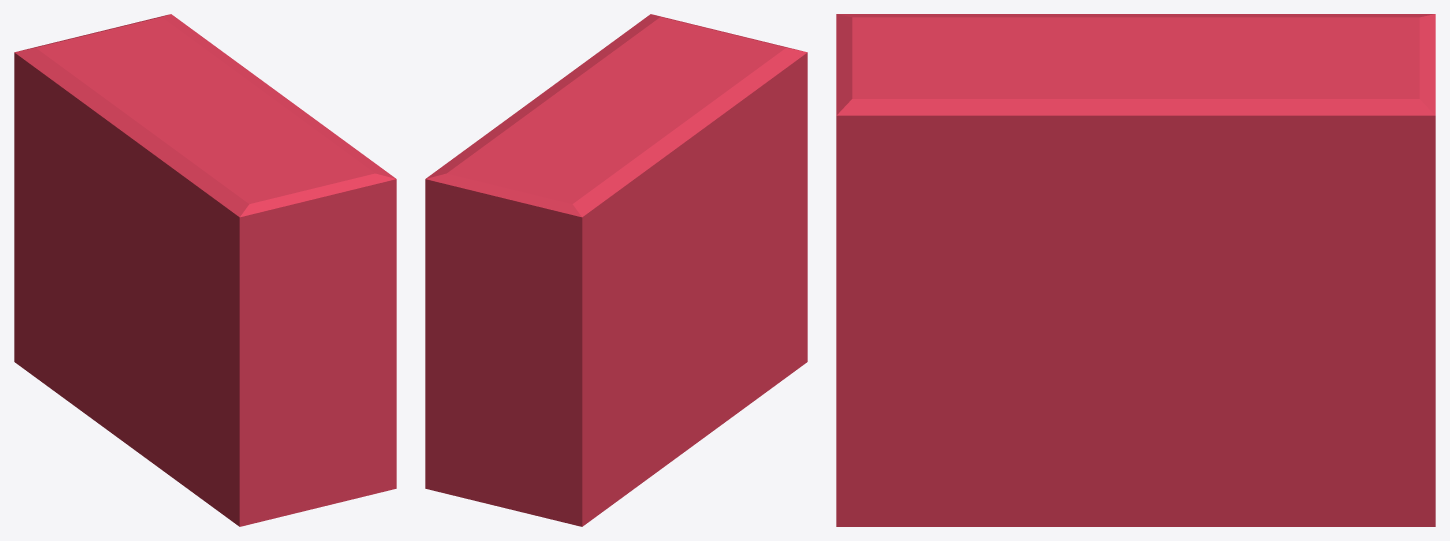
File: Itr_Couch_Outside_Side_01.FBX
The picture shows the model from 3 angles, left to right: view 1: azimuth 30°, elevation 25°; view 2: azimuth 150°, elevation 25°; view 3: azimuth 270°, elevation 25°; orthographic projection. The views are drawn at different scales.
Parts seen in each view (by area): view 1: Itr_Couch_Outside_Side_01; view 2: Itr_Couch_Outside_Side_01; view 3: Itr_Couch_Outside_Side_01.
Boxes of the visible parts, x1,y1,x2,y2 form: Itr_Couch_Outside_Side_01: (14, 14, 396, 526); Itr_Couch_Outside_Side_01: (425, 14, 807, 526); Itr_Couch_Outside_Side_01: (836, 14, 1435, 526).
Size of the model in its own units: 13.12 by 25.52 by 32.64.
